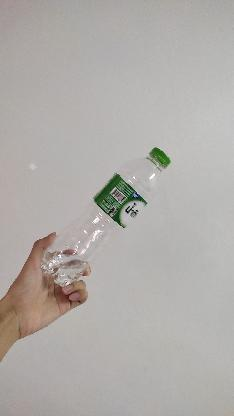Plastic Bottle: (36, 146, 172, 290)
